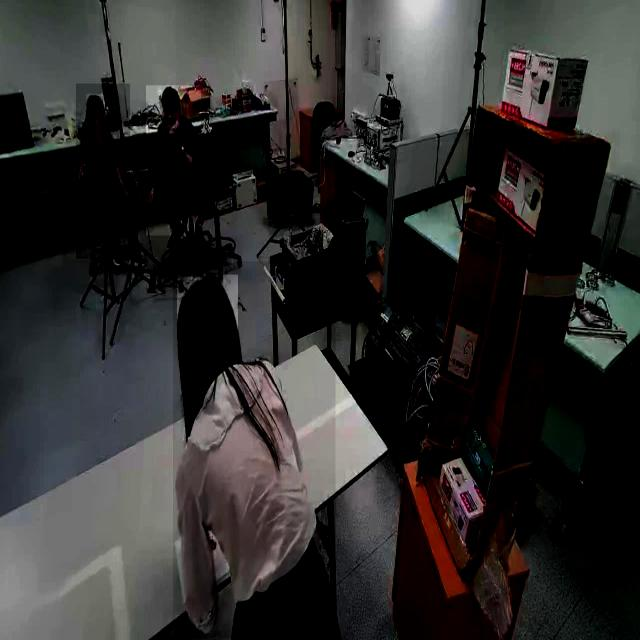face_nomask: (164, 105, 179, 124)
hand_noglove: (93, 98, 103, 120), (122, 184, 131, 202)
head_nohelmet: (176, 275, 238, 344), (163, 85, 183, 103), (86, 94, 106, 108)
person: (172, 261, 336, 639), (76, 83, 130, 260), (145, 86, 201, 237)
